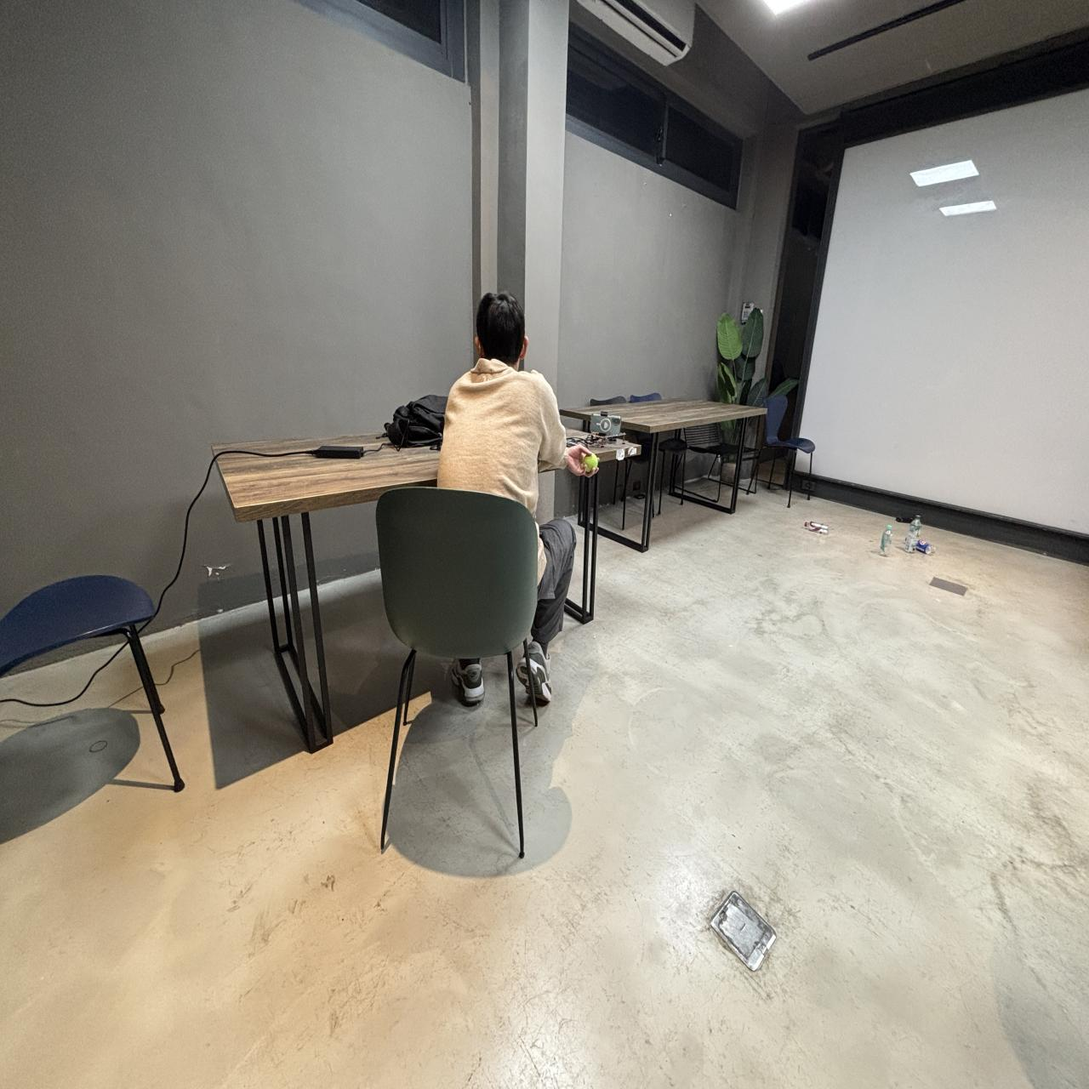person: (438, 293, 589, 516)
plastic-bottle: (905, 515, 921, 552), (881, 525, 892, 555)
tennisball: (582, 449, 601, 474)
